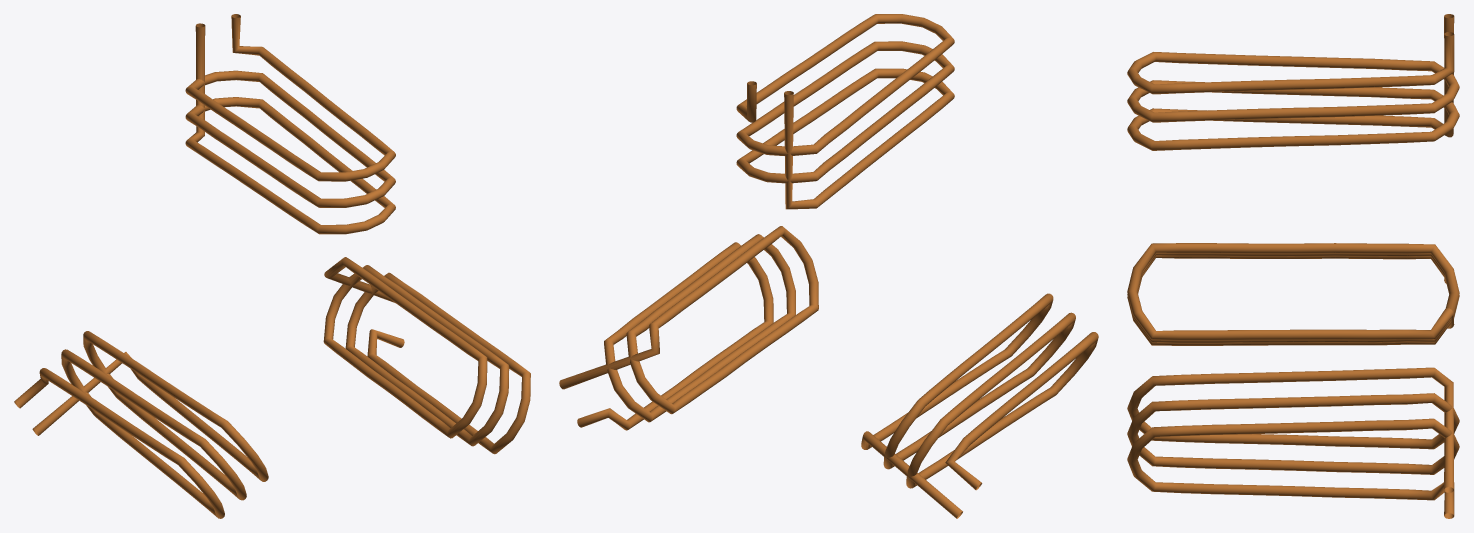
Rendered from DCblCoil4.glb.
3 views of the same model, side by side, from view 1: azimuth 30°, elevation 25°; view 2: azimuth 150°, elevation 25°; view 3: azimuth 270°, elevation 25° (orthographic). The views are drawn at different scales.
Parts seen in each view (by area): view 1: Spiral.004, Spiral.002, Spiral.001; view 2: Spiral.004, Spiral.002, Spiral.001; view 3: Spiral.001, Spiral.004, Spiral.002.
Boxes of the visible parts, <box> form: Spiral.004: <box>185,14,395,234</box>; Spiral.002: <box>14,331,268,518</box>; Spiral.001: <box>323,257,530,454</box>; Spiral.004: <box>736,14,954,209</box>; Spiral.002: <box>861,293,1098,518</box>; Spiral.001: <box>559,226,818,430</box>; Spiral.001: <box>1127,367,1459,518</box>; Spiral.004: <box>1127,14,1459,150</box>; Spiral.002: <box>1127,243,1459,345</box>.
Bounding box in the file's own units: 6.87 × 6.02 × 4.54.
